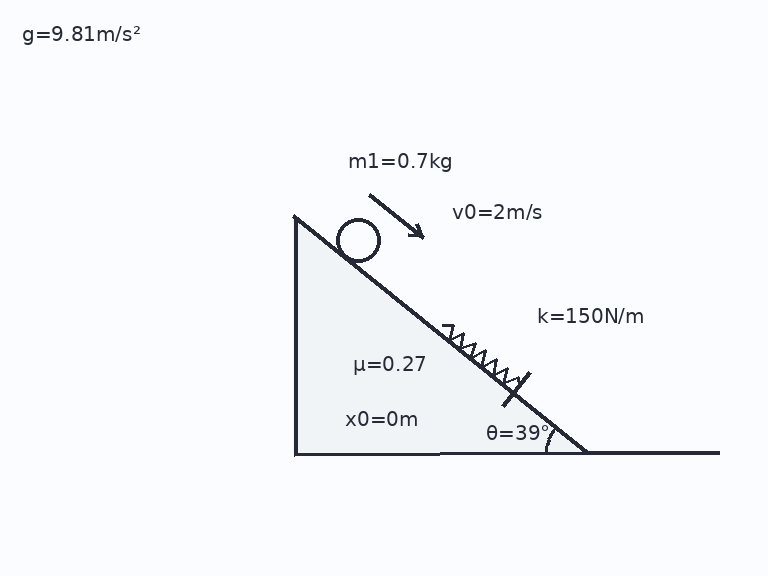ball: (334, 216, 382, 264)
ramp: (292, 214, 588, 455)
spring: (441, 322, 521, 389)
